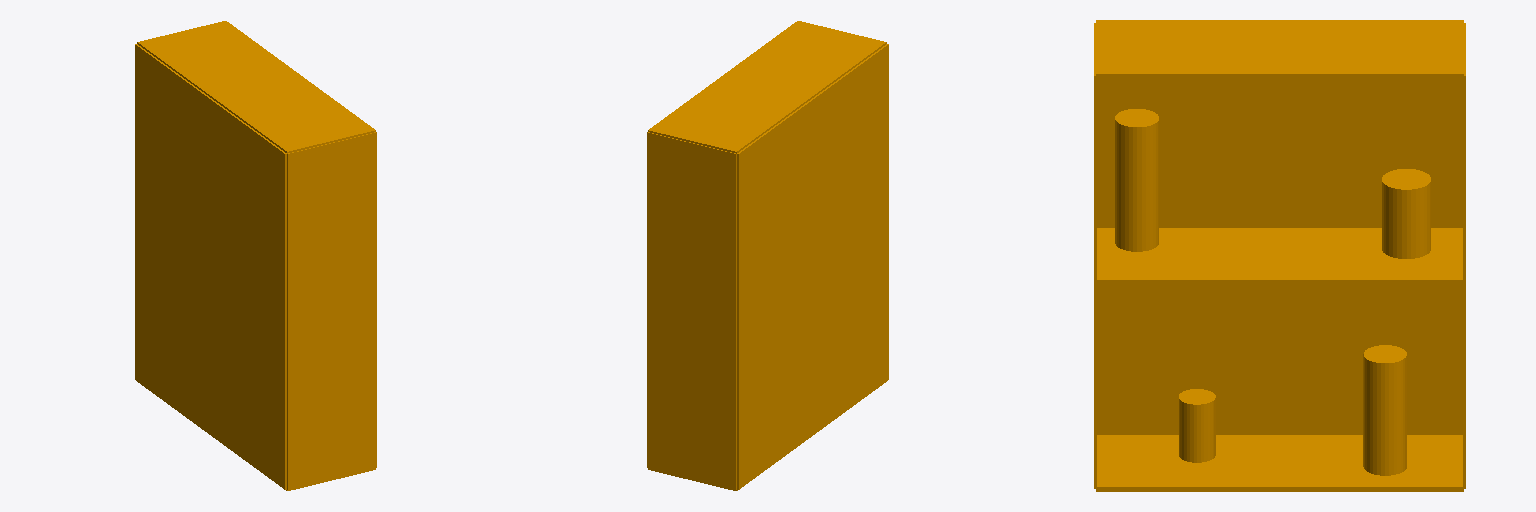
URDF robot description (syn_can_cabinet_1081):
<?xml version="1.0" ?>
<robot name="syn_can_cabinet_1081">
    <link concave="yes" name="base_link">
        <inertial>
            <origin rpy="0 0 0" xyz="0 0 0"/>
            <mass value="0.0"/>
            <inertia ixx="1e-08" ixy="0" ixz="0" iyy="1e-08" iyz="0" izz="1e-08"/>
        </inertial>
        <visual>
            <origin xyz="0 0 0" rpy="0 0 0" />
            <geometry>
                <mesh filename="syn_can_cabinet_1081.obj" scale="1.000000 1.000000 1.000000"/>
            </geometry>         
        </visual>

        <collision concave="yes">
            <origin xyz="0 0 0" rpy="0 0 0"/>
            <geometry>
                <mesh filename="syn_can_cabinet_1081.obj" scale="1.000000 1.000000 1.000000"/>
            </geometry>
        </collision>
    </link>
</robot>
    

--- Facts derived from the render (not from the file) ---
Views: 3 orthographic renders of the robot side by side, from view 1: azimuth 30°, elevation 25°; view 2: azimuth 150°, elevation 25°; view 3: azimuth 270°, elevation 25°.
Model syn_can_cabinet_1081 with 1 links and 0 joints (none), rooted at base_link, posed all joints at 0.
Links seen in each view (by area): view 1: base_link; view 2: base_link; view 3: base_link.
Boxes of the visible links, x1,y1,x2,y2 form: base_link: (135,21,376,490); base_link: (647,21,888,490); base_link: (1094,20,1465,491).
Size in the robot's own frame: 0.1588 by 0.4582 by 0.5689 metres.
Meshes: 1 distinct files referenced, 1 mesh visuals loaded (1 OBJ).
